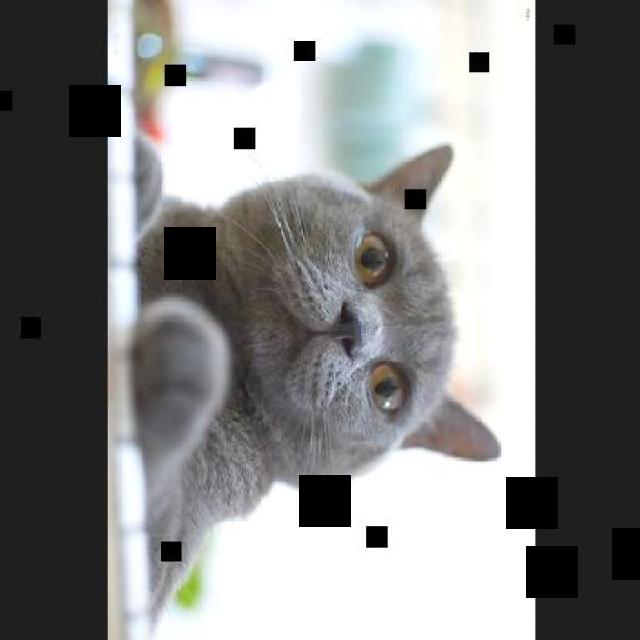unauthorized: (128, 131, 500, 634)
